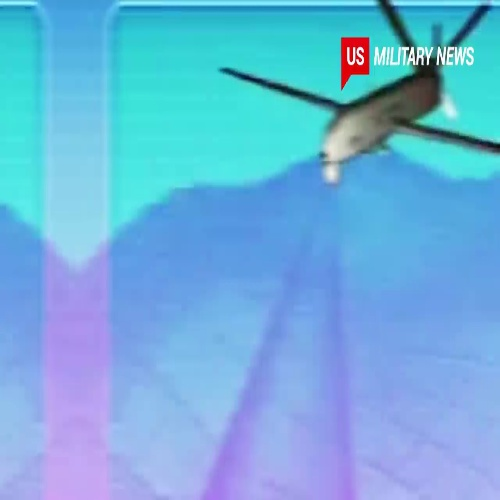uav741: (213, 3, 498, 186)
